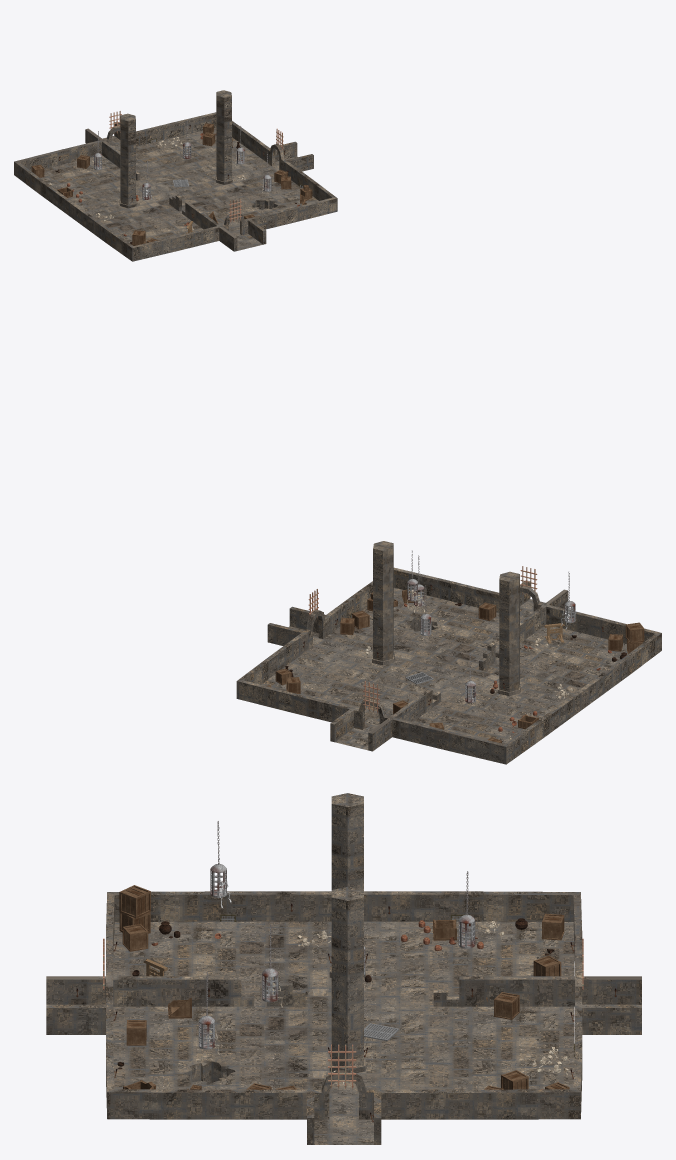
3 renders of one model, top to bottom at view 1: azimuth 30°, elevation 25°; view 2: azimuth 150°, elevation 25°; view 3: azimuth 270°, elevation 25°, orthographic. The views are drawn at different scales.
Parts seen in each view (by area): view 1: floor, Plane.001, sciany.002, sciany.001; view 2: floor, Plane.001, sciany.001, sciany.002; view 3: floor, Plane.001, sciany.001, sciany.002, hole, klatka.003, gate.005, klatka_3.001, klatka.001.
Part boxes in pixels (x1=…): floor: x1=40, y1=127, x2=318, y2=250; Plane.001: x1=14, y1=112, x2=337, y2=261; sciany.002: x1=119, y1=113, x2=136, y2=208; sciany.001: x1=215, y1=90, x2=232, y2=184; floor: x1=261, y1=587, x2=627, y2=750; Plane.001: x1=236, y1=567, x2=661, y2=764; sciany.001: x1=372, y1=541, x2=394, y2=665; sciany.002: x1=498, y1=571, x2=520, y2=696; floor: x1=113, y1=921, x2=574, y2=1144; Plane.001: x1=46, y1=891, x2=641, y2=1144; sciany.001: x1=329, y1=886, x2=365, y2=1073; sciany.002: x1=329, y1=793, x2=365, y2=977; hole: x1=184, y1=1061, x2=235, y2=1083; klatka.003: x1=458, y1=914, x2=475, y2=948; gate.005: x1=328, y1=1044, x2=356, y2=1088; klatka_3.001: x1=198, y1=1015, x2=214, y2=1049; klatka.001: x1=262, y1=968, x2=278, y2=1002.
Bounding box in the file's own units: 79.4 × 22.53 × 40.81.
Materials: 16 (12 with a texture image).
